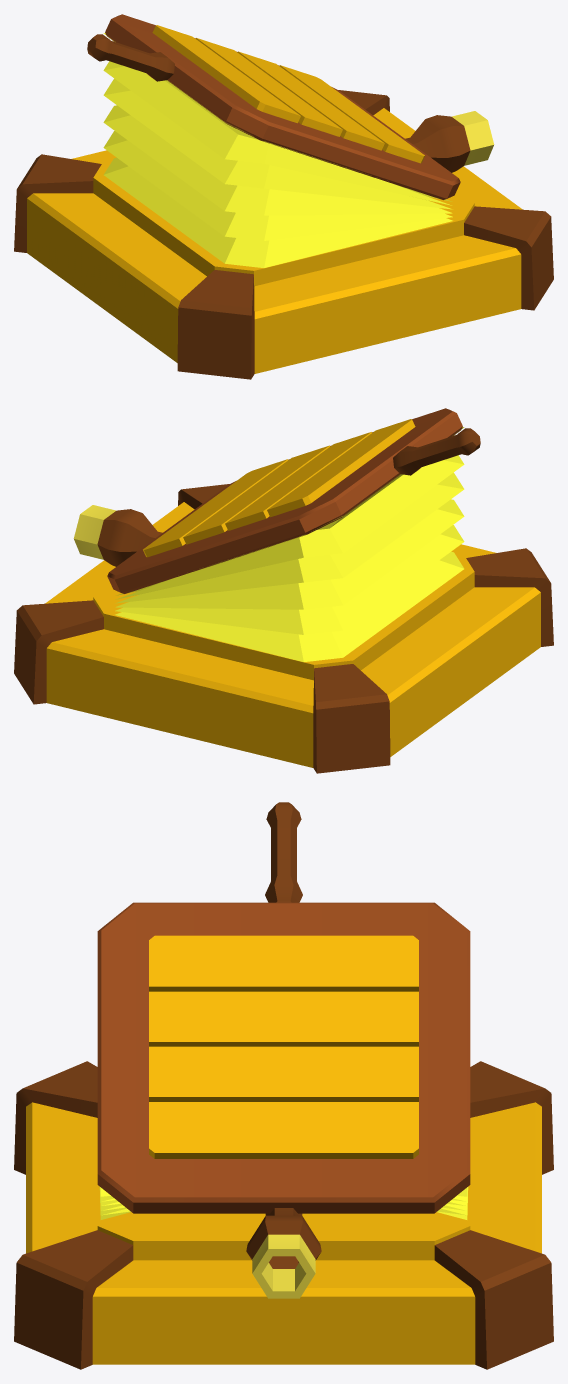
The model's file is island7-defense1 (1).fbx.
The picture shows the model from 3 angles, top to bottom: view 1: azimuth 30°, elevation 25°; view 2: azimuth 150°, elevation 25°; view 3: azimuth 270°, elevation 25°; orthographic projection. The views are drawn at different scales.
Visible parts, largest first — view 1: island7-defense1, island7-defense1.01, island7-defense1.02; view 2: island7-defense1, island7-defense1.01, island7-defense1.02; view 3: island7-defense1.02, island7-defense1, island7-defense1.01.
Part boxes in pixels (<box>): island7-defense1: <box>14,90,553,379</box>; island7-defense1.01: <box>103,33,452,267</box>; island7-defense1.02: <box>87,14,460,199</box>; island7-defense1: <box>14,484,553,773</box>; island7-defense1.01: <box>115,427,464,661</box>; island7-defense1.02: <box>107,408,480,593</box>; island7-defense1.02: <box>97,802,470,1213</box>; island7-defense1: <box>14,1061,553,1369</box>; island7-defense1.01: <box>99,1187,468,1219</box>.
Size of the model in its own units: 4.76 by 3.17 by 4.57.
1 material, 1 textured.
